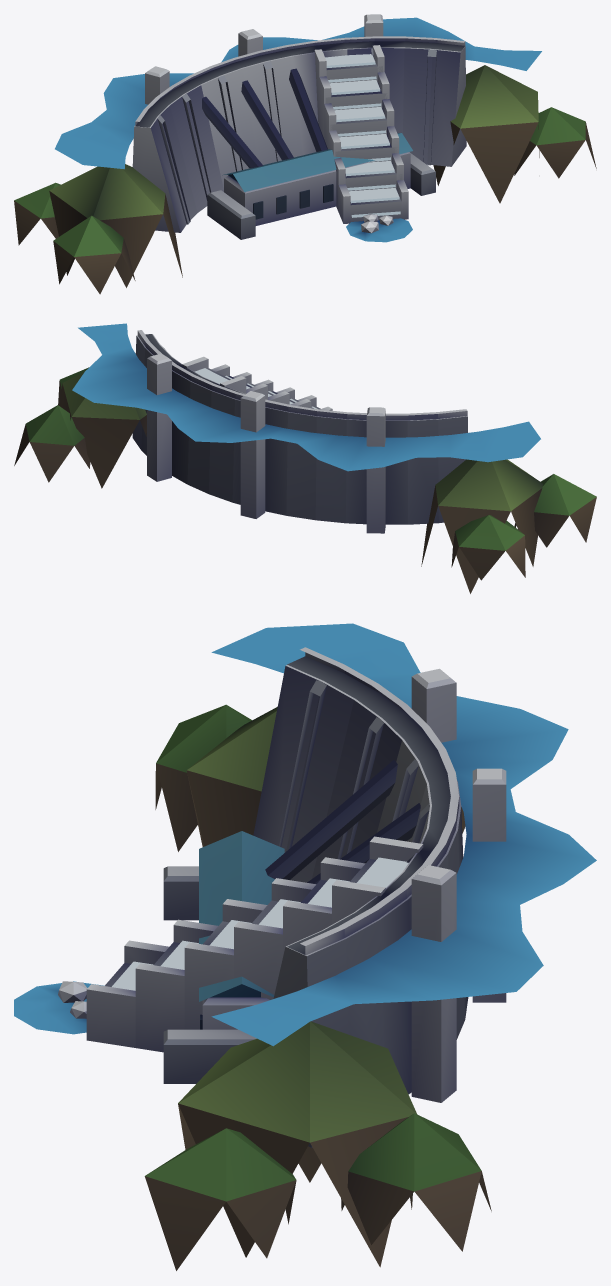
File: represa_guri.glb
3 renders of one model, top to bottom at view 1: azimuth 30°, elevation 25°; view 2: azimuth 150°, elevation 25°; view 3: azimuth 270°, elevation 25°, orthographic. The views are drawn at different scales.
Parts seen in each view (by area): view 1: muro, estribos, casa_de_maquinas, vertedero_cauce, lago, vertedero, penstocks; view 2: muro, estribos, lago, vertedero_cauce; view 3: estribos, muro, lago, vertedero_cauce, casa_de_maquinas, vertedero, penstocks.
Boxes of the visible parts, x1,y1,x2,y2 form: muro: (132, 14, 466, 232); estribos: (14, 65, 596, 294); casa_de_maquinas: (207, 133, 435, 239); vertedero_cauce: (314, 45, 408, 223); lago: (55, 17, 541, 169); vertedero: (325, 54, 412, 242); penstocks: (202, 68, 327, 168); muro: (132, 330, 467, 533); estribos: (14, 367, 596, 593); lago: (72, 323, 540, 471); vertedero_cauce: (182, 356, 332, 410); estribos: (144, 704, 491, 1270); muro: (253, 647, 506, 1147); lago: (211, 623, 596, 1046); vertedero_cauce: (86, 836, 423, 1052); casa_de_maquinas: (163, 831, 284, 1083); vertedero: (14, 857, 408, 1034); penstocks: (265, 760, 420, 884).
Bounding box in the file's own units: 108 × 31.62 × 55.81.
